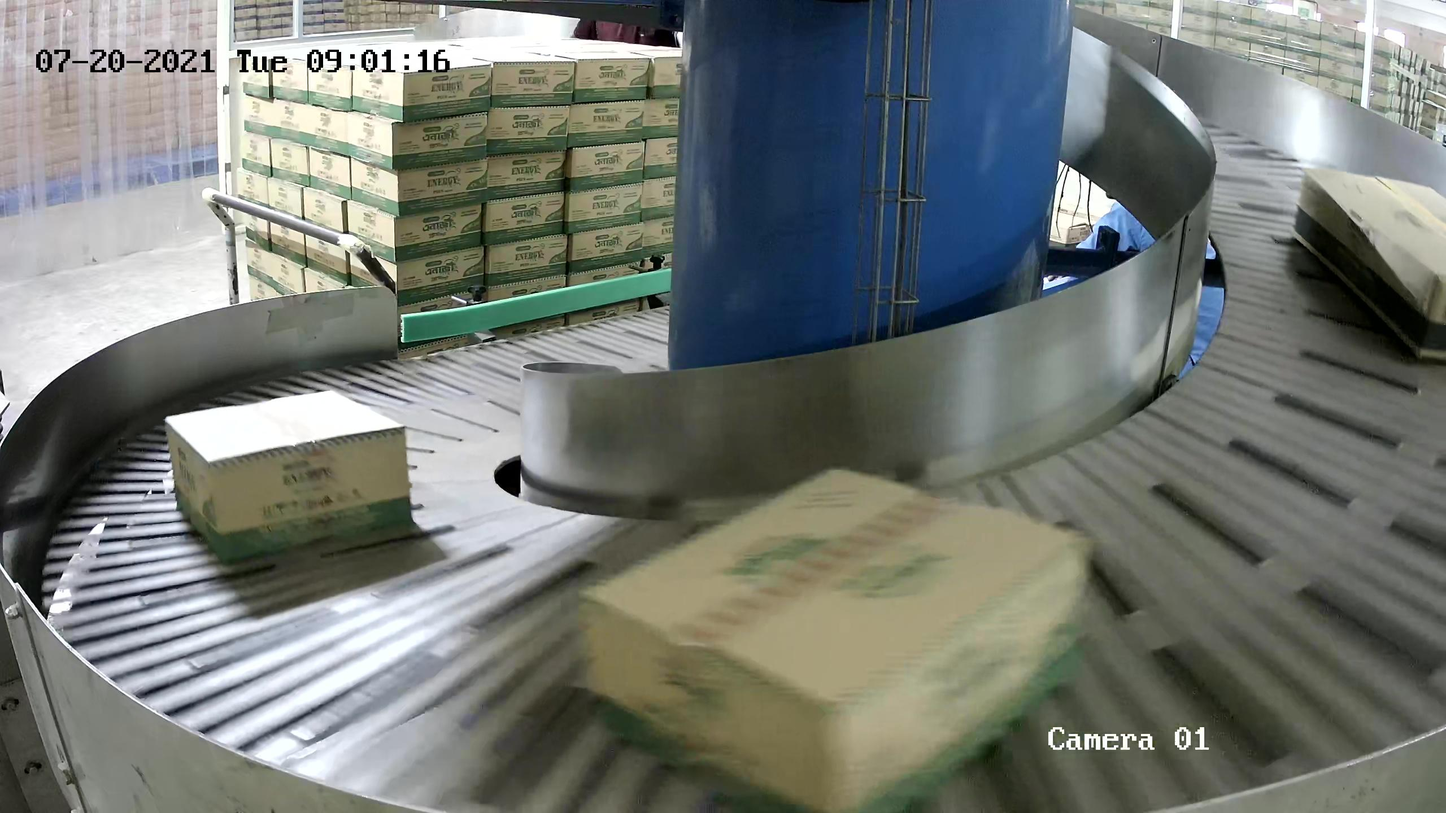Box: (574, 462, 1099, 813), (165, 389, 418, 567), (1291, 164, 1446, 365)
